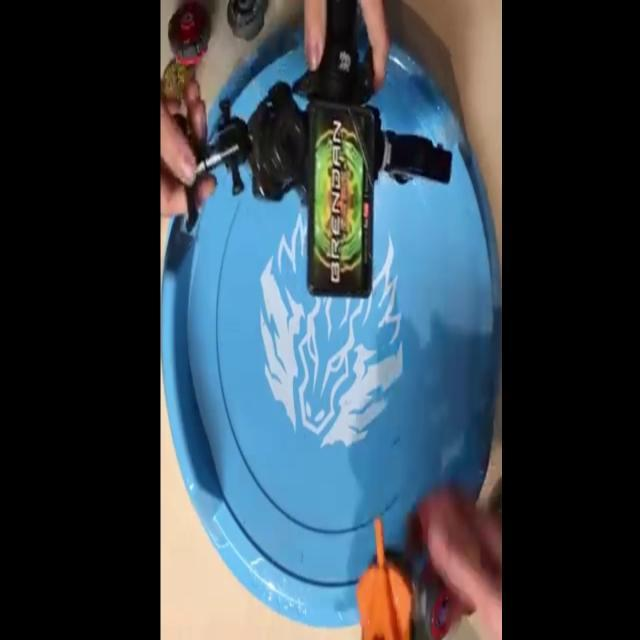Beyblade: (168, 2, 210, 68), (421, 573, 452, 640)
